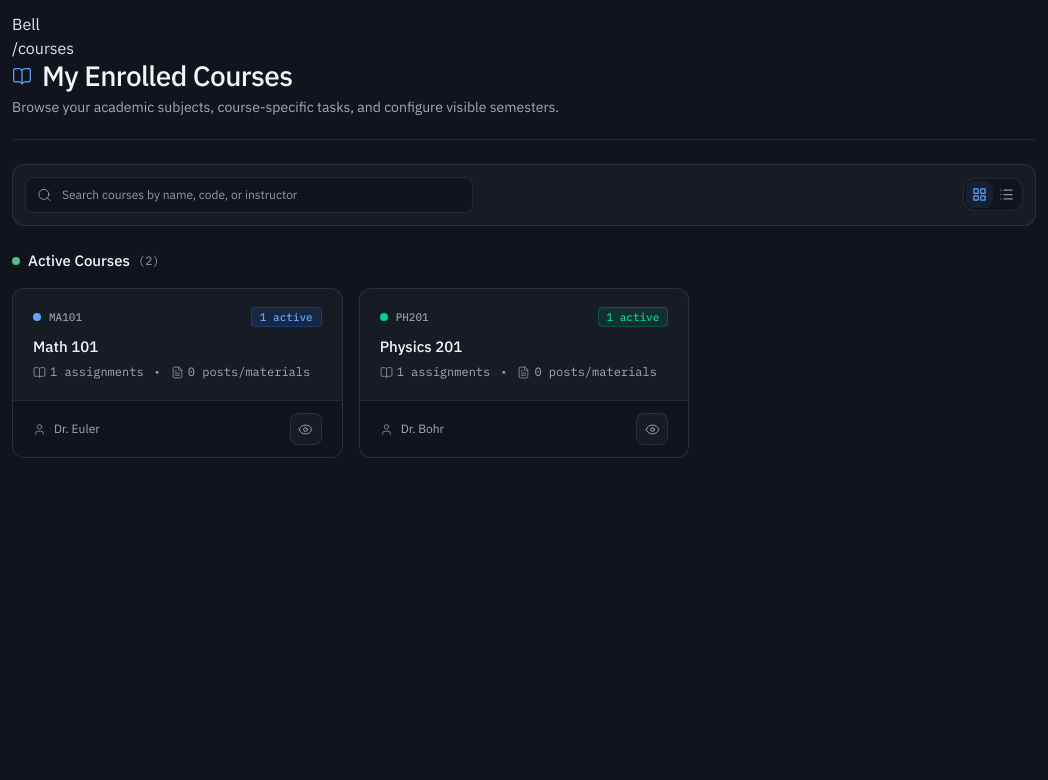
Test: End-to-End Navigation & User Journey Flows › Journey 3: Courses -> Course Details -> Assignments Tab -> Assignment -> Back restores exact Course and Tab
Check: the text with test id "current-location" reads "/courses", box [12,38,74,58]
Note: Select Math 101
Click the heading "Math 101".
click(66, 347)  # box [33,337,98,356]
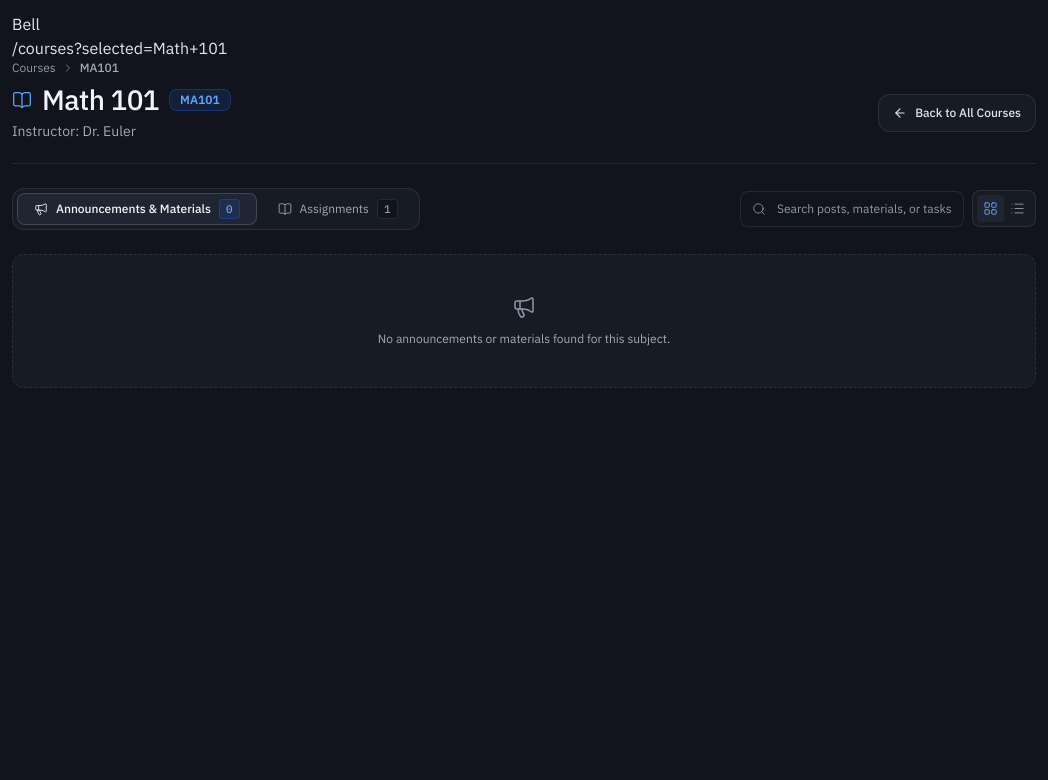
Check: the text with test id "current-location" reads "/courses?selected=Math+101", box [12,38,227,58]
Note: Switch to Assignments tab
Click the text "Assignments".
click(334, 209)  # box [300,201,369,217]
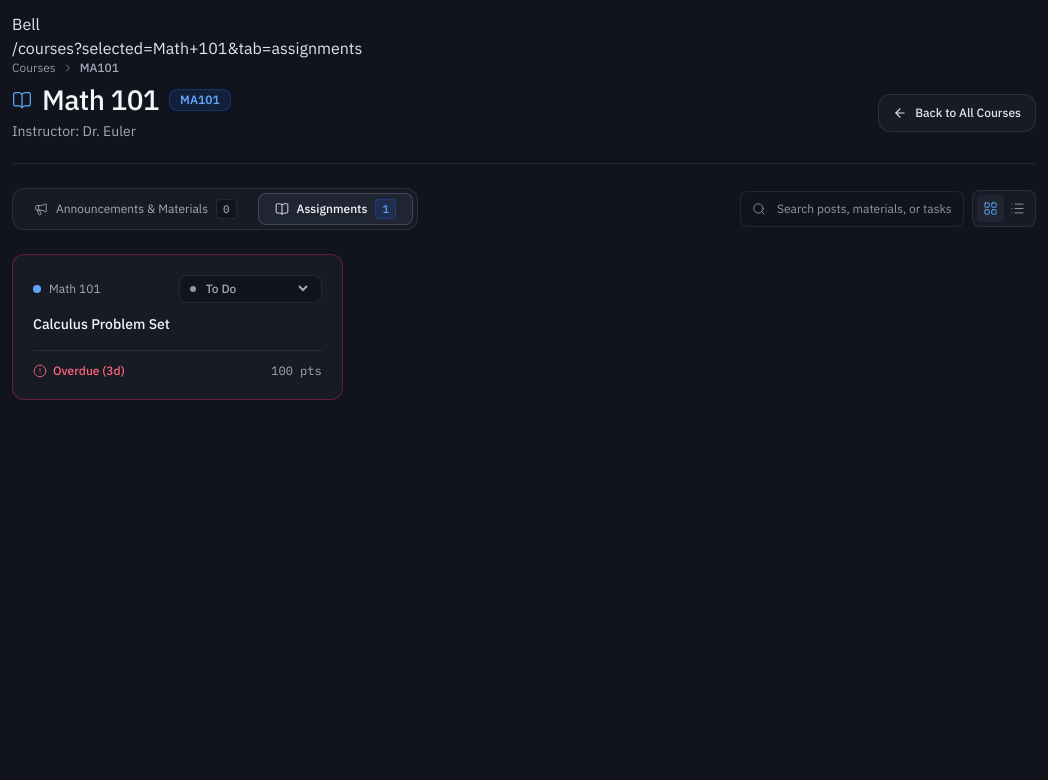
Check: the text with test id "current-location" reads "/courses?selected=Math+101&tab=assignments", box [12,38,362,58]
Note: Open assignment
Click the link "Calculus Problem Set".
click(101, 324)  # box [33,315,170,333]
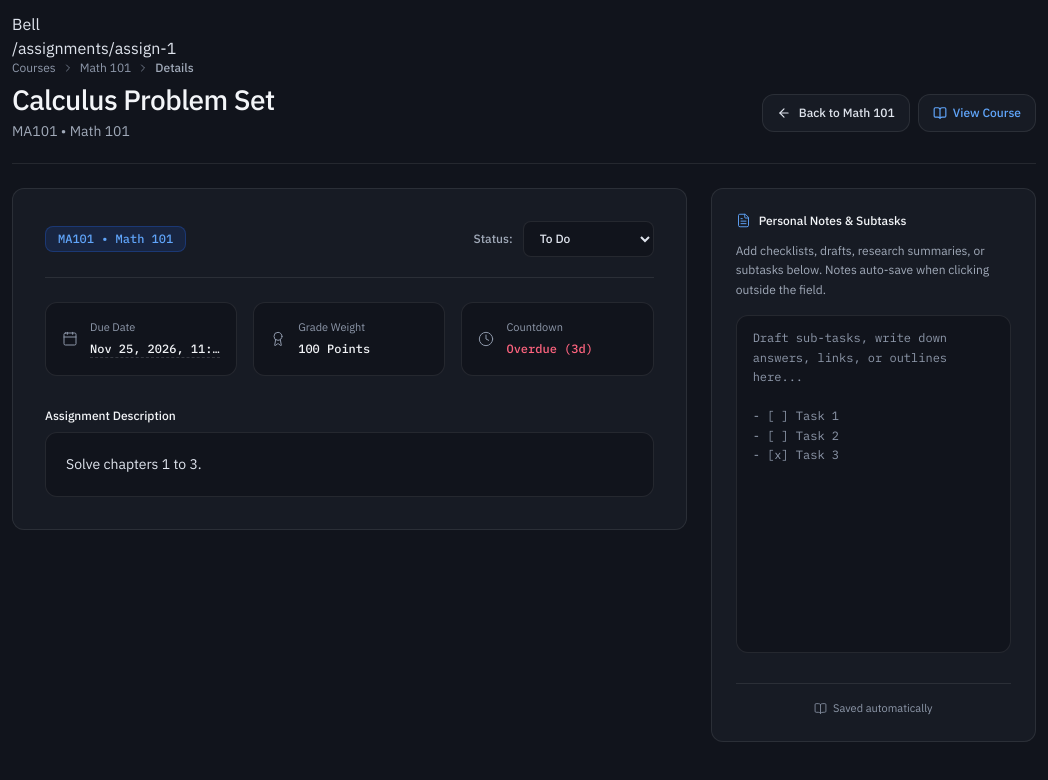
Check: the text with test id "current-location" reads "/assignments/assign-1", box [12,38,176,58]
Check: the button with test id "assignment-back-button" reads "Back to Math 101"
Click the button with test id "assignment-back-button".
click(836, 114)  # box [762,94,910,132]
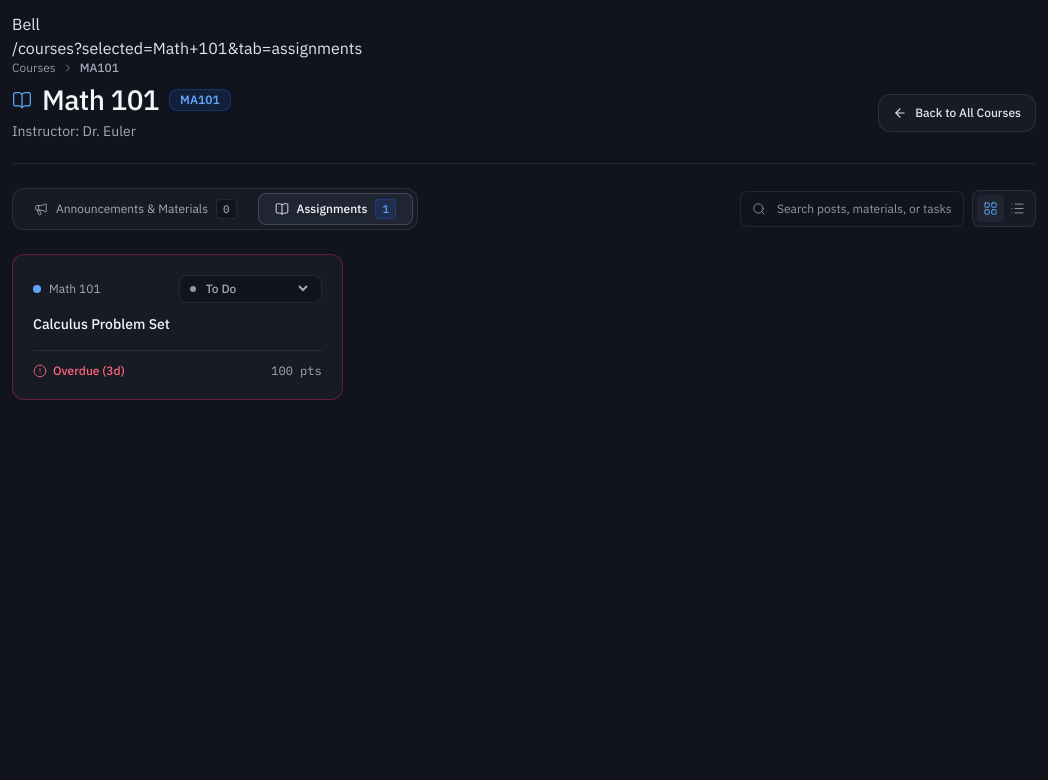
Check: the text with test id "current-location" reads "/courses?selected=Math+101&tab=assignments", box [12,38,362,58]
